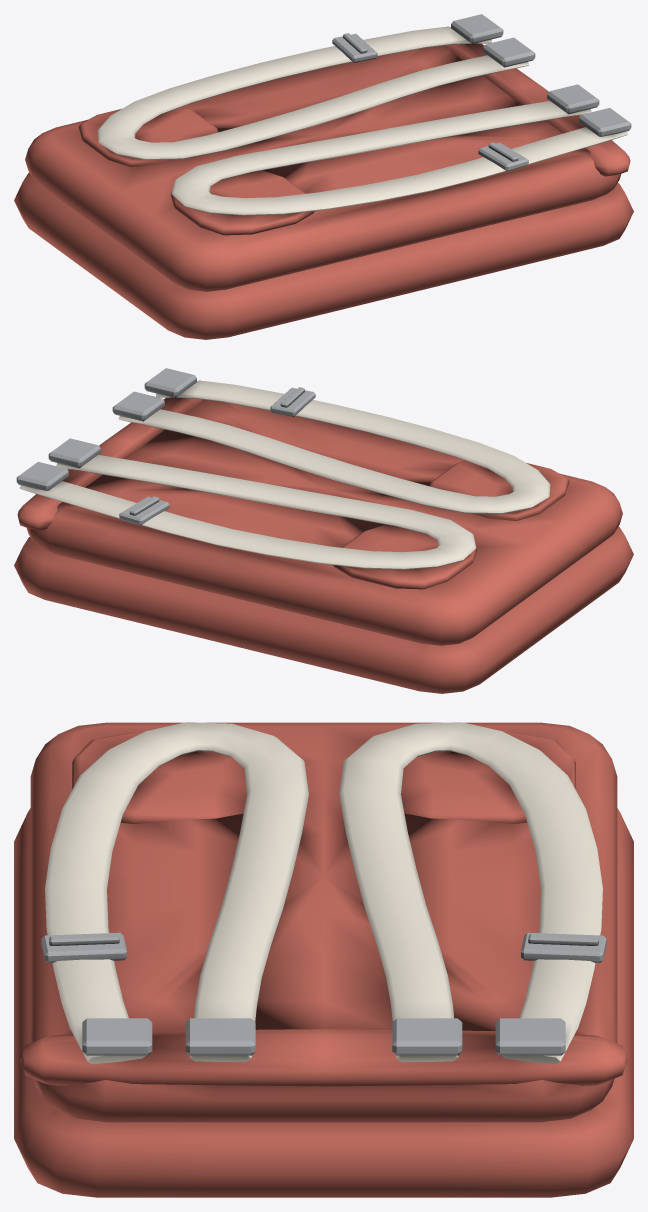
File: wear_pants_snow.glb
3 renders of one model, top to bottom at view 1: azimuth 30°, elevation 25°; view 2: azimuth 150°, elevation 25°; view 3: azimuth 270°, elevation 25°, orthographic. The views are drawn at different scales.
Visible parts, largest first — view 1: PART; view 2: PART; view 3: PART.
Part boxes in pixels (x1,y1,x2,y2): PART: (14,14,633,339); PART: (14,368,633,693); PART: (14,722,633,1197).
Bounding box in the file's own units: 0.421 × 0.0955 × 0.3.
